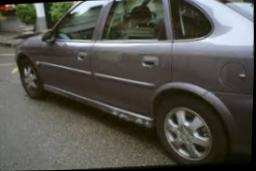Bumper: (97, 97, 154, 134)
